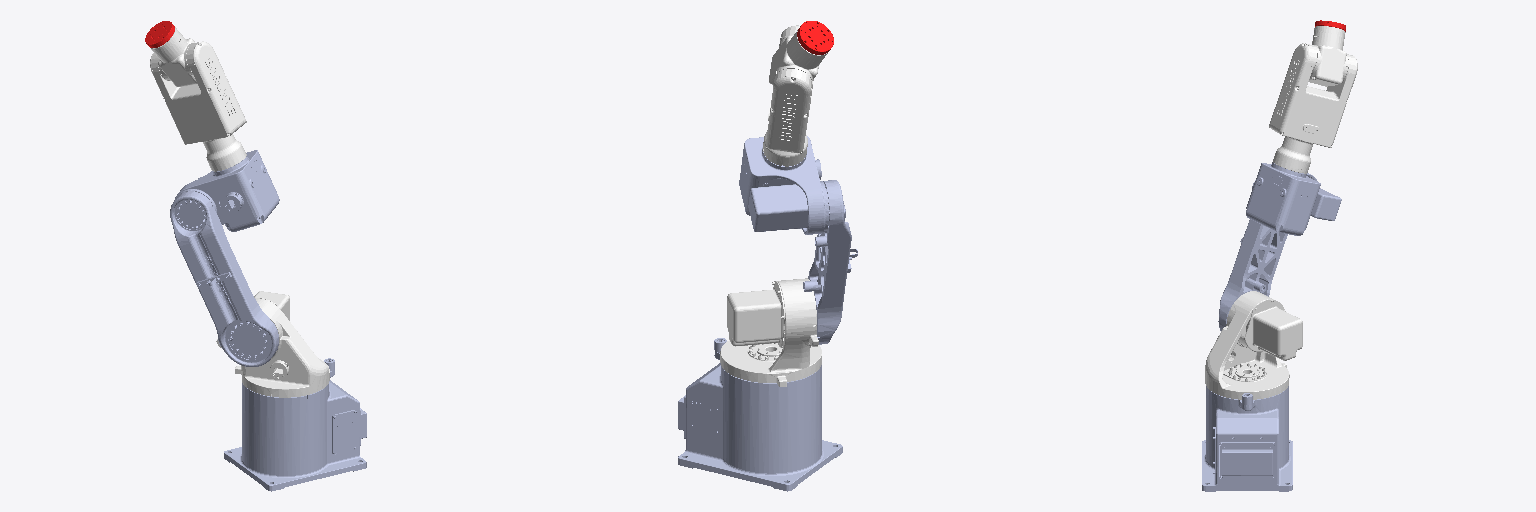
robot.urdf — arm_BRTIRUS0805A_SLDASM:
<?xml version="1.0" encoding="utf-8"?>
<!-- This URDF was automatically created by SolidWorks to URDF Exporter! Originally created by [author] ([email redacted]) 
     Commit Version: 1.6.0-4-g7f85cfe  Build Version: 1.6.7995.38578
     For more information, please see http://wiki.ros.org/sw_urdf_exporter -->
<robot
  name="arm_BRTIRUS0805A_SLDASM">
  <link
    name="base_link">
    <inertial>
      <origin
        xyz="-0.079879 0.065571 0.30338"
        rpy="0 0 0" />
      <mass
        value="35.943" />
      <inertia
        ixx="4.8963"
        ixy="0.22178"
        ixz="1.0455"
        iyy="4.9892"
        iyz="-0.99002"
        izz="0.75129" />
    </inertial>
    <visual>
      <origin
        xyz="0 0 0"
        rpy="0 0 0" />
      <geometry>
        <mesh
          filename="package://cpp06_urdf/meshes/base_link.STL" />
      </geometry>
      <material
        name="">
        <color
          rgba="0.79216 0.81961 0.93333 1" />
      </material>
    </visual>
    <collision>
      <origin
        xyz="0 0 0"
        rpy="0 0 0" />
      <geometry>
        <mesh
          filename="package://cpp06_urdf/meshes/base_link.STL" />
      </geometry>
    </collision>
  </link>
  <link
    name="Link1">
    <inertial>
      <origin
        xyz="-0.079879 0.065571 0.30338"
        rpy="0 0 0" />
      <mass
        value="35.943" />
      <inertia
        ixx="4.8963"
        ixy="0.22178"
        ixz="1.0455"
        iyy="4.9892"
        iyz="-0.99002"
        izz="0.75129" />
    </inertial>
    <visual>
      <origin
        xyz="0 0 0"
        rpy="0 0 0" />
      <geometry>
        <mesh
          filename="package://cpp06_urdf/meshes/Link1.STL" />
      </geometry>
      <material
        name="">
        <color
          rgba="1 1 1 1" />
      </material>
    </visual>
    <collision>
      <origin
        xyz="0 0 0"
        rpy="0 0 0" />
      <geometry>
        <mesh
          filename="package://cpp06_urdf/meshes/Link1.STL" />
      </geometry>
    </collision>
  </link>
  <joint
    name="joint1"
    type="continuous">
    <origin
      xyz="0 0 0"
      rpy="0 0 0" />
    <parent
      link="base_link" />
    <child
      link="Link1" />
    <axis
      xyz="0 0 1" />
    <limit
      lower="-3.14"
      upper="3.14"
      effort="100"
      velocity="3.14" />
  </joint>
  <link
    name="Link2">
    <inertial>
      <origin
        xyz="0.047056 0.084107 0.12388"
        rpy="0 0 0" />
      <mass
        value="35.943" />
      <inertia
        ixx="4.8963"
        ixy="0.22178"
        ixz="1.0455"
        iyy="4.9892"
        iyz="-0.99002"
        izz="0.75129" />
    </inertial>
    <visual>
      <origin
        xyz="0 0 0"
        rpy="0 0 0" />
      <geometry>
        <mesh
          filename="package://cpp06_urdf/meshes/Link2.STL" />
      </geometry>
      <material
        name="">
        <color
          rgba="0.79216 0.81961 0.93333 1" />
      </material>
    </visual>
    <collision>
      <origin
        xyz="0 0 0"
        rpy="0 0 0" />
      <geometry>
        <mesh
          filename="package://cpp06_urdf/meshes/Link2.STL" />
      </geometry>
    </collision>
  </link>
  <joint
    name="joint2"
    type="continuous">
    <origin
      xyz="-0.12694 -0.018536 0.1795"
      rpy="0 0 0" />
    <parent
      link="Link1" />
    <child
      link="Link2" />
    <axis
      xyz="0.75035 0.66104 0" />
    <limit
      lower="-3.14"
      upper="3.14"
      effort="100"
      velocity="3.14" />
  </joint>
  <link
    name="Link3">
    <inertial>
      <origin
        xyz="0.15627 -0.041376 -0.22886"
        rpy="0 0 0" />
      <mass
        value="35.943" />
      <inertia
        ixx="4.8963"
        ixy="0.22178"
        ixz="1.0455"
        iyy="4.9892"
        iyz="-0.99002"
        izz="0.75129" />
    </inertial>
    <visual>
      <origin
        xyz="0 0 0"
        rpy="0 0 0" />
      <geometry>
        <mesh
          filename="package://cpp06_urdf/meshes/Link3.STL" />
      </geometry>
      <material
        name="">
        <color
          rgba="0.79216 0.81961 0.93333 1" />
      </material>
    </visual>
    <collision>
      <origin
        xyz="0 0 0"
        rpy="0 0 0" />
      <geometry>
        <mesh
          filename="package://cpp06_urdf/meshes/Link3.STL" />
      </geometry>
    </collision>
  </link>
  <joint
    name="joint3"
    type="continuous">
    <origin
      xyz="-0.10921 0.12548 0.35274"
      rpy="0 0 0" />
    <parent
      link="Link2" />
    <child
      link="Link3" />
    <axis
      xyz="0.75035 0.66104 0" />
    <limit
      lower="-3.14"
      upper="3.14"
      effort="100"
      velocity="3.14" />
  </joint>
  <link
    name="Link4">
    <inertial>
      <origin
        xyz="0.033038 -0.062024 -0.36559"
        rpy="0 0 0" />
      <mass
        value="35.943" />
      <inertia
        ixx="4.8963"
        ixy="0.22178"
        ixz="1.0455"
        iyy="4.9892"
        iyz="-0.99002"
        izz="0.75129" />
    </inertial>
    <visual>
      <origin
        xyz="0 0 0"
        rpy="0 0 0" />
      <geometry>
        <mesh
          filename="package://cpp06_urdf/meshes/Link4.STL" />
      </geometry>
      <material
        name="">
        <color
          rgba="1 1 1 1" />
      </material>
    </visual>
    <collision>
      <origin
        xyz="0 0 0"
        rpy="0 0 0" />
      <geometry>
        <mesh
          filename="package://cpp06_urdf/meshes/Link4.STL" />
      </geometry>
    </collision>
  </link>
  <joint
    name="joint4"
    type="continuous">
    <origin
      xyz="0.12323 0.020648 0.13672"
      rpy="0 0 0" />
    <parent
      link="Link3" />
    <child
      link="Link4" />
    <axis
      xyz="-0.27889 0.31657 0.90664" />
    <limit
      lower="-3.14"
      upper="3.14"
      effort="100"
      velocity="3.14" />
  </joint>
  <link
    name="Link5">
    <inertial>
      <origin
        xyz="0.098965 -0.11601 -0.65537"
        rpy="0 0 0" />
      <mass
        value="35.943" />
      <inertia
        ixx="4.8963"
        ixy="0.22178"
        ixz="1.0455"
        iyy="4.9892"
        iyz="-0.99002"
        izz="0.75129" />
    </inertial>
    <visual>
      <origin
        xyz="0 0 0"
        rpy="0 0 0" />
      <geometry>
        <mesh
          filename="package://cpp06_urdf/meshes/Link5.STL" />
      </geometry>
      <material
        name="">
        <color
          rgba="1 1 1 1" />
      </material>
    </visual>
    <collision>
      <origin
        xyz="0 0 0"
        rpy="0 0 0" />
      <geometry>
        <mesh
          filename="package://cpp06_urdf/meshes/Link5.STL" />
      </geometry>
    </collision>
  </link>
  <joint
    name="joint5"
    type="continuous">
    <origin
      xyz="-0.065927 0.053985 0.28978"
      rpy="0 0 0" />
    <parent
      link="Link4" />
    <child
      link="Link5" />
    <axis
      xyz="0.35431 -0.84358 0.40354" />
    <limit
      lower="-3.14"
      upper="3.14"
      effort="100"
      velocity="3.14" />
  </joint>
  <link
    name="Link6">
    <inertial>
      <origin
        xyz="0.0033322 -0.00086479 -0.0047903"
        rpy="0 0 0" />
      <mass
        value="0.17509" />
      <inertia
        ixx="0.00013622"
        ixy="-7.96E-06"
        ixz="-4.6542E-05"
        iyy="0.00010784"
        iyz="1.2013E-05"
        izz="0.00016934" />
    </inertial>
    <visual>
      <origin
        xyz="0 0 0"
        rpy="0 0 0" />
      <geometry>
        <mesh
          filename="package://cpp06_urdf/meshes/Link6.STL" />
      </geometry>
      <material
        name="">
        <color
          rgba="1 0.16863 0.16863 1" />
      </material>
    </visual>
    <collision>
      <origin
        xyz="0 0 0"
        rpy="0 0 0" />
      <geometry>
        <mesh
          filename="package://cpp06_urdf/meshes/Link6.STL" />
      </geometry>
    </collision>
  </link>
  <joint
    name="joint6"
    type="continuous">
    <origin
      xyz="-0.084674 0.058136 0.076471"
      rpy="0 0 0" />
    <parent
      link="Link5" />
    <child
      link="Link6" />
    <axis
      xyz="-0.56953 0.1476 0.80861" />
    <limit
      lower="-3.14"
      upper="3.14"
      effort="100"
      velocity="3.14" />
  </joint>
</robot>

--- Facts derived from the render (not from the file) ---
3 views of the same robot in one strip: view 1: azimuth 30°, elevation 25°; view 2: azimuth 150°, elevation 25°; view 3: azimuth 270°, elevation 25° (orthographic).
Robot: arm_BRTIRUS0805A_SLDASM — 7 links, 6 joints (6 continuous); root link base_link; default pose: every joint at zero.
Links seen in each view (by area): view 1: base_link, Link2, Link4, Link1, Link3, Link5, Link6; view 2: base_link, Link1, Link3, Link2, Link4, Link5, Link6; view 3: base_link, Link1, Link4, Link3, Link2, Link5.
Boxes of the visible links, x1,y1,x2,y2 form: base_link: (224,358,366,491); Link2: (170,191,278,366); Link4: (150,41,246,171); Link1: (216,291,329,397); Link3: (174,150,279,231); Link5: (151,27,196,86); Link6: (145,21,174,47); base_link: (678,338,842,491); Link1: (720,278,821,386); Link3: (739,136,829,234); Link2: (803,180,857,344); Link4: (763,25,813,166); Link5: (769,30,827,84); Link6: (797,21,833,54); base_link: (1202,386,1292,491); Link1: (1205,291,1302,399); Link4: (1269,43,1357,173); Link3: (1246,162,1341,235); Link2: (1218,219,1287,330); Link5: (1309,26,1348,86).
Size in the robot's own frame: 0.5151 by 0.4471 by 1.3 metres.
Meshes: 7 distinct files referenced, 7 mesh visuals loaded (7 binary STL).